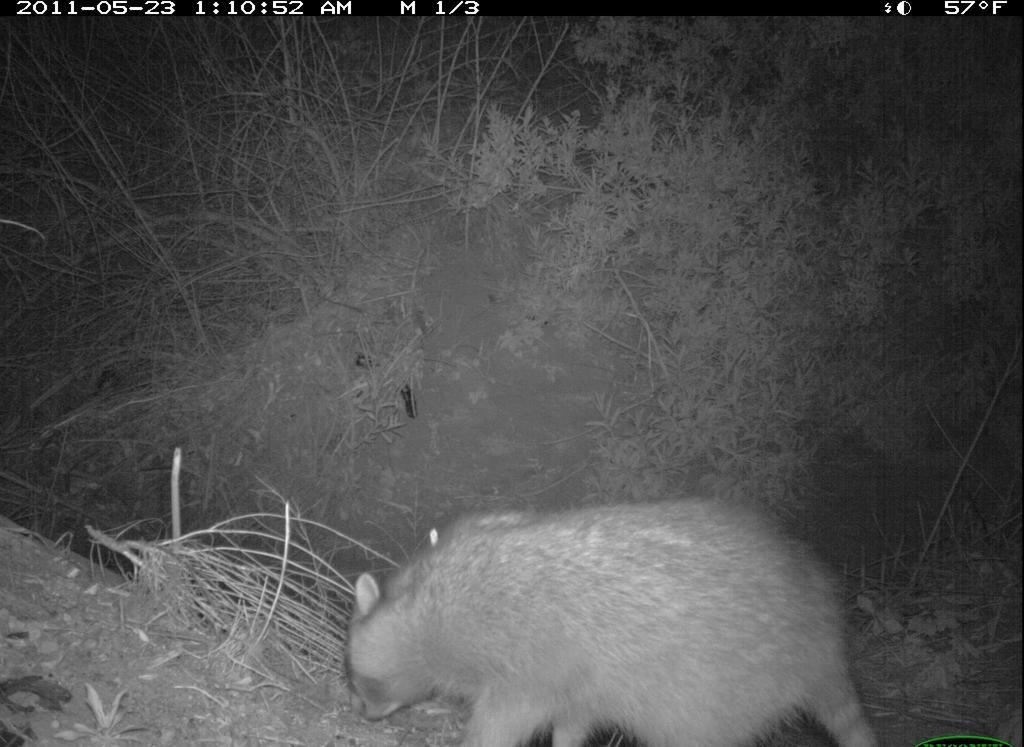raccoon: (340, 483, 877, 747)
